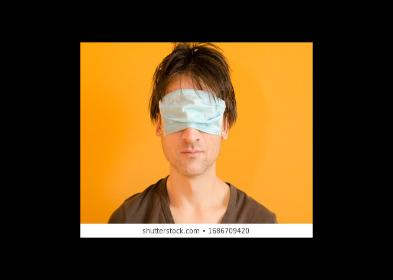mask_weared_incorrect: (161, 90, 225, 178)
